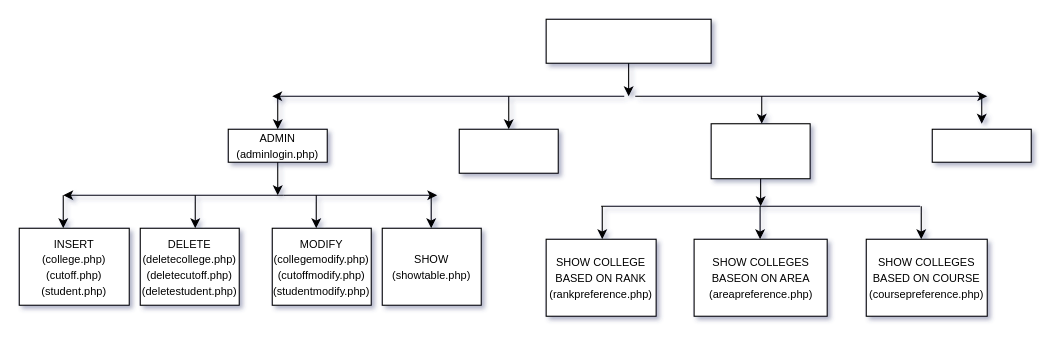
Some shapes in this 1057 by 342 pixel diagram are drawn without their labels. The centre of each missing label's shape, as x and y in pixels:
"CHATBOT (chat .js) (responses.js)" goes at pixel 508 150.
"CONTACT (contact .html)" goes at pixel 981 145.
"HOME PAGE (index.html)" goes at pixel 628 40.
"STUDENT (student login.php) (studentsignup.php)" goes at pixel 760 151.
